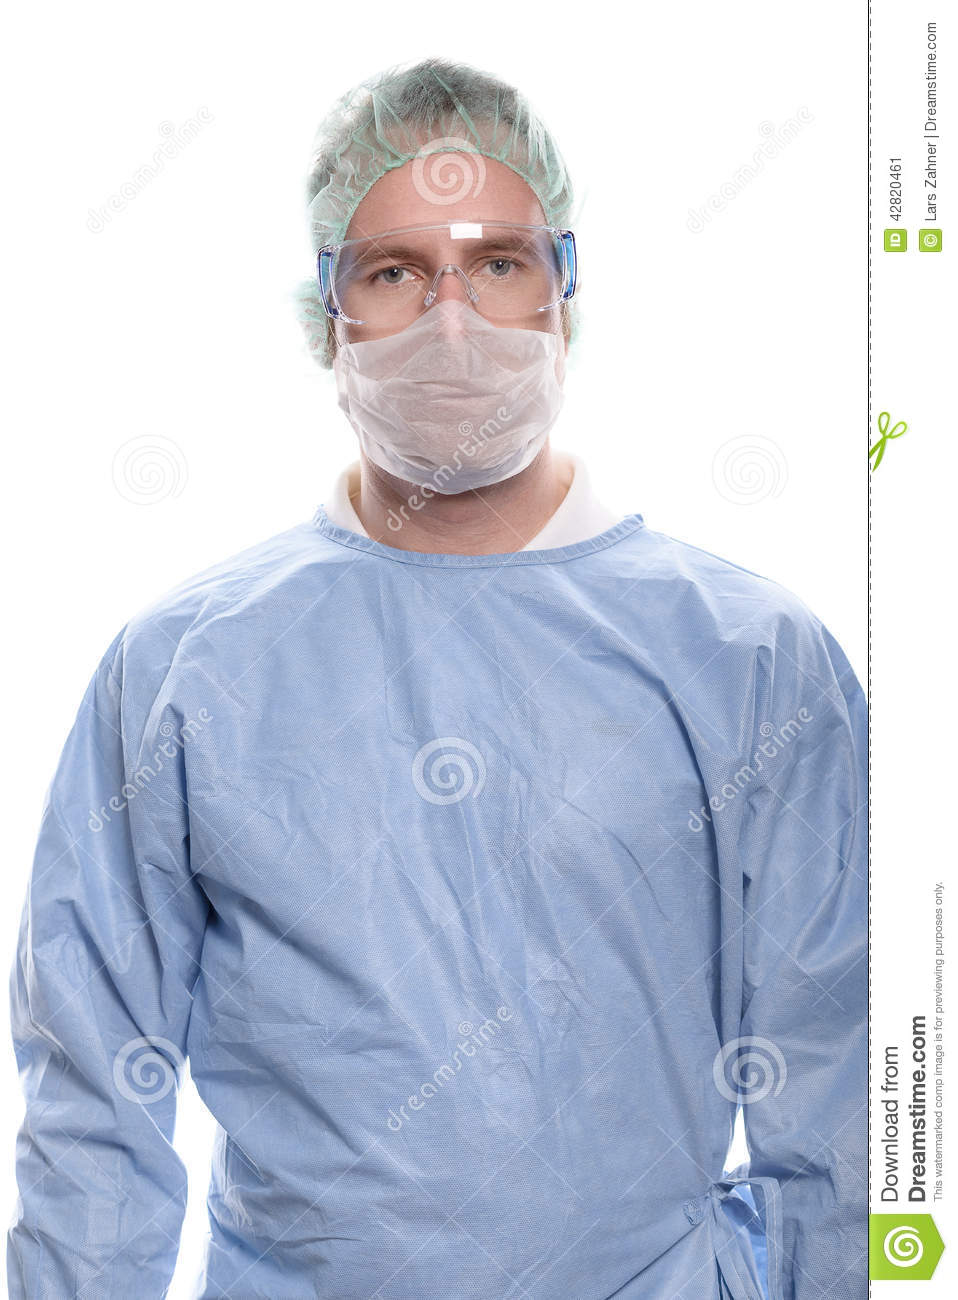mask: (335, 319, 579, 495)
